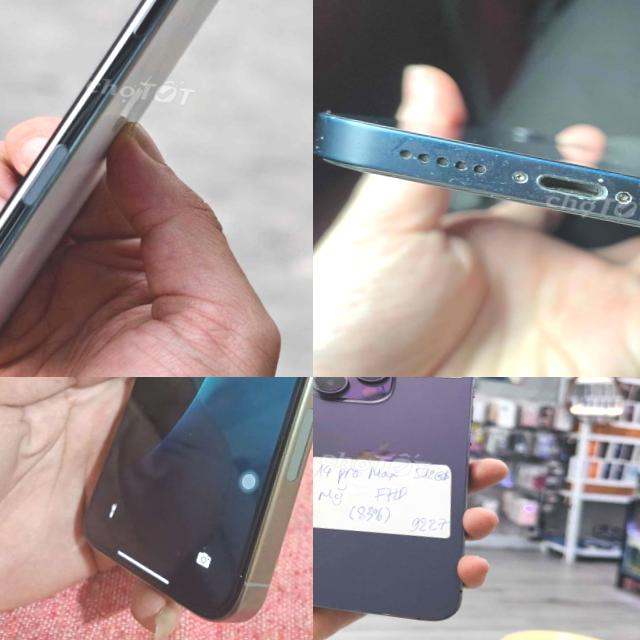scratch: (349, 118, 640, 259)
